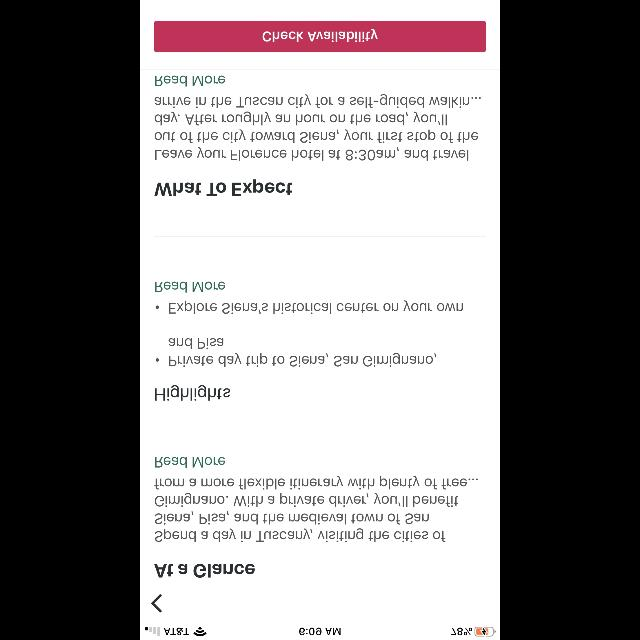icon: (152, 594, 162, 612)
text: (155, 95, 481, 162), (154, 476, 478, 542), (156, 338, 437, 368), (155, 300, 463, 314), (154, 180, 292, 197), (154, 564, 256, 578), (156, 385, 230, 401), (155, 457, 225, 468), (155, 282, 225, 292), (155, 76, 225, 86)
textbutton: (154, 20, 486, 52)
uppertaskbar: (140, 626, 500, 640)
